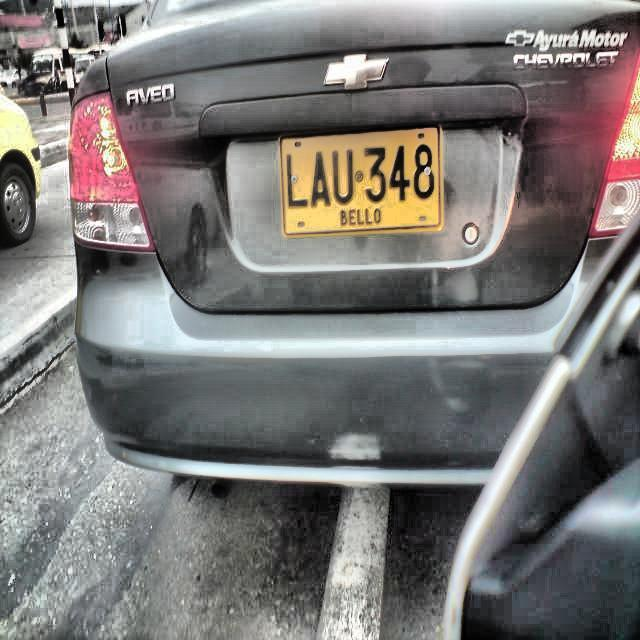plate: (279, 124, 445, 238)
